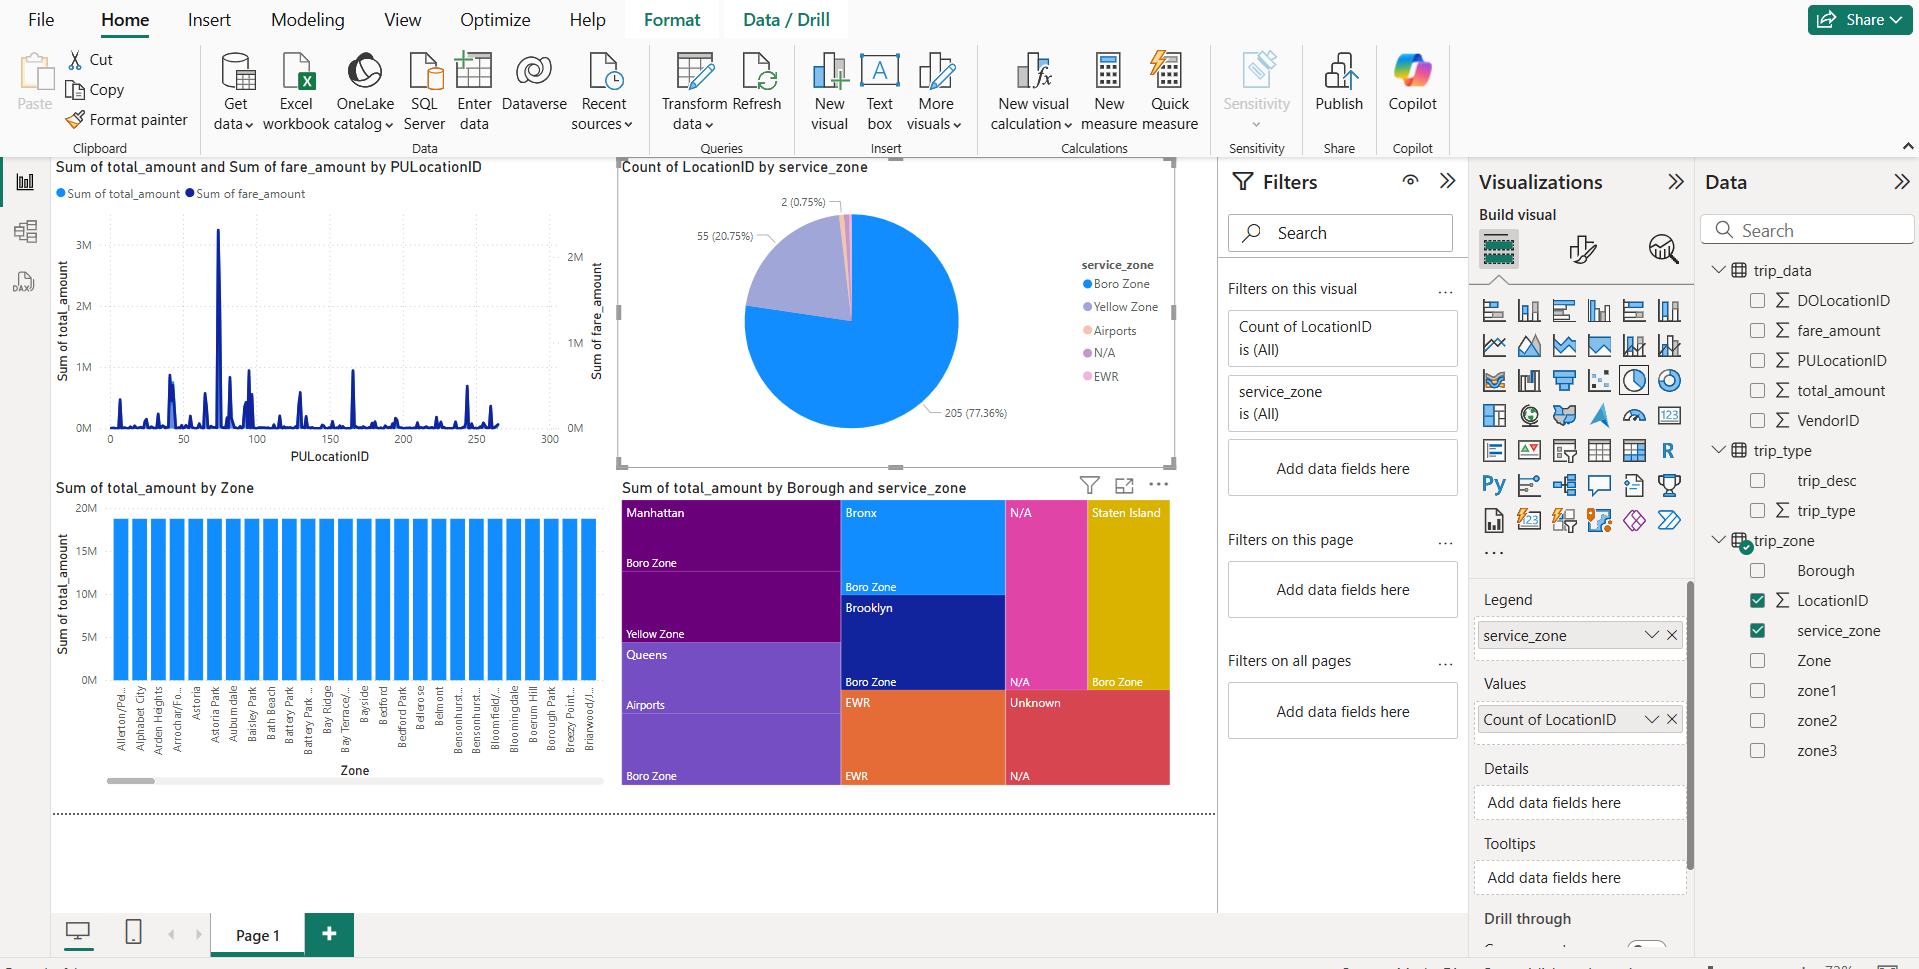

The dashboard page shown, as its layout file describes it:
{"tool":"powerbi","page":{"name":"Page 1","canvas":[1280,720],"ordinal":0},"visuals":[{"type":"areaChart","fields":{"Category":["trip_data.PULocationID"],"Y":["Sum(trip_data.total_amount)"],"Y2":["Sum(trip_data.fare_amount)"]},"box":[0,0,612,341.7],"z":0},{"type":"lineStackedColumnComboChart","fields":{"Category":["trip_zone.Zone"],"Y":["Sum(trip_data.total_amount)"]},"box":[0,352.7,612,341.7],"z":1},{"type":"pieChart","fields":{"Category":["trip_zone.service_zone"],"Y":["CountNonNull(trip_zone.LocationID)"]},"box":[622,0,612,342],"z":2},{"type":"treemap","fields":{"Details":["trip_zone.service_zone"],"Group":["trip_zone.Borough"],"Values":["Sum(trip_data.total_amount)"]},"box":[622,352,612,342],"z":3}]}

Visuals, with their boxes on the page's 1280x720 design canvas (x1, y1, x2, y2). These are canvas units, not pixel positions in the 1919x969 screenshot, which may show the page scaled, cropped or inside an application window:
areaChart - trip_data.PULocationID x Sum(trip_data.total_amount): [left=0, top=0, right=612, bottom=342]
lineStackedColumnComboChart - trip_zone.Zone x Sum(trip_data.total_amount): [left=0, top=353, right=612, bottom=694]
pieChart - trip_zone.service_zone x CountNonNull(trip_zone.LocationID): [left=622, top=0, right=1234, bottom=342]
treemap - trip_zone.service_zone x trip_zone.Borough: [left=622, top=352, right=1234, bottom=694]
